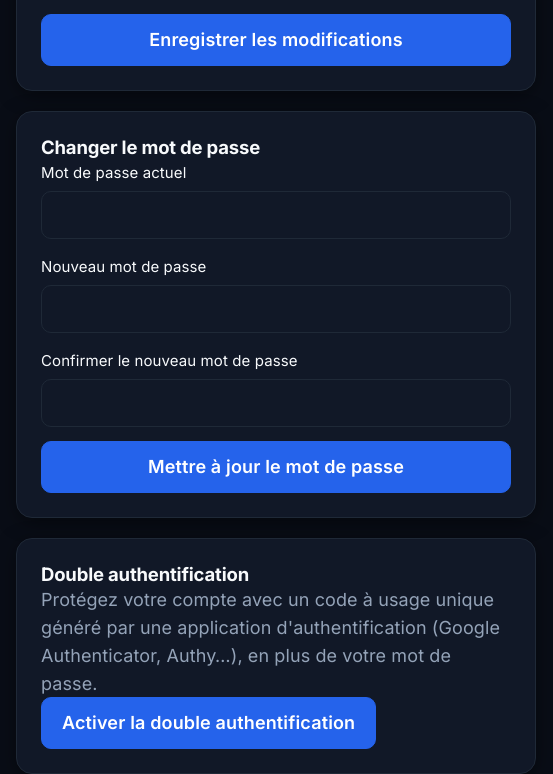
Scenario: MonProfil — double authentification › démarre l'activation et affiche la clé secrète
This screenshot has width=553, height=774.
(page scrolled)
Click the button "Activer la double authentification": (209, 723) 41,697 -> 376,749
(page scrolled)
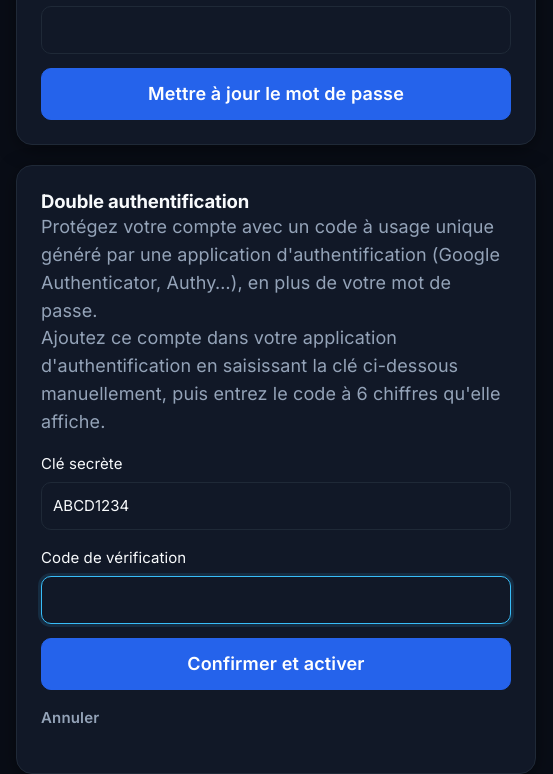
Expected: the field showing "ABCD1234" is shown, 41,482 -> 511,530
